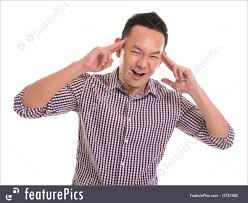asian_male: (106, 11, 177, 103)
